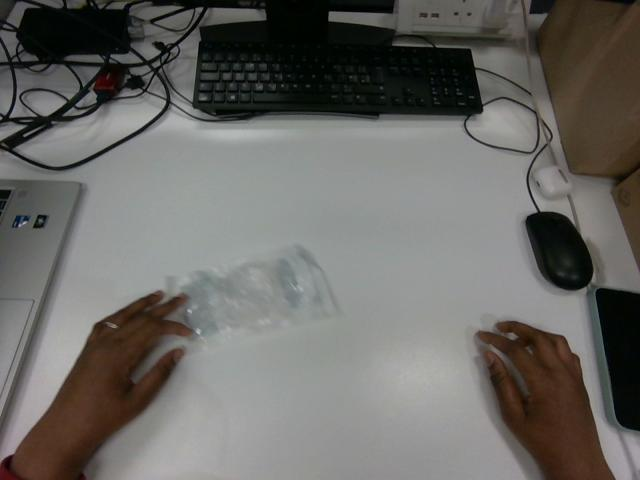gallipot: (180, 246, 336, 340)
